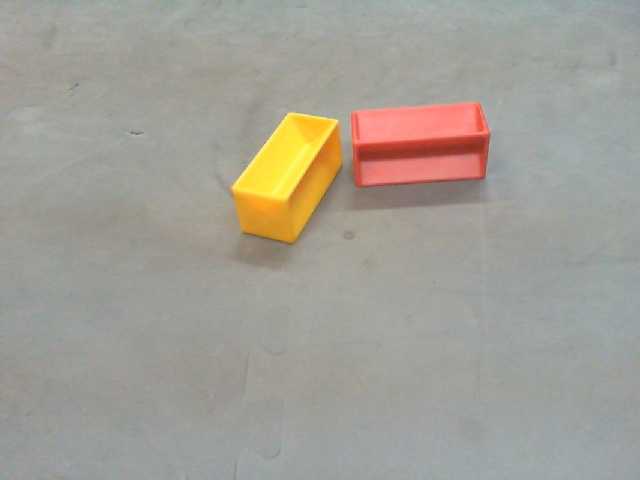RedSample: (349, 101, 494, 188)
YellowSample: (228, 110, 342, 245)
